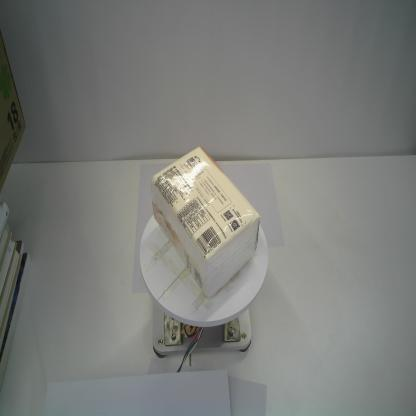Tissue: (150, 145, 263, 302)
